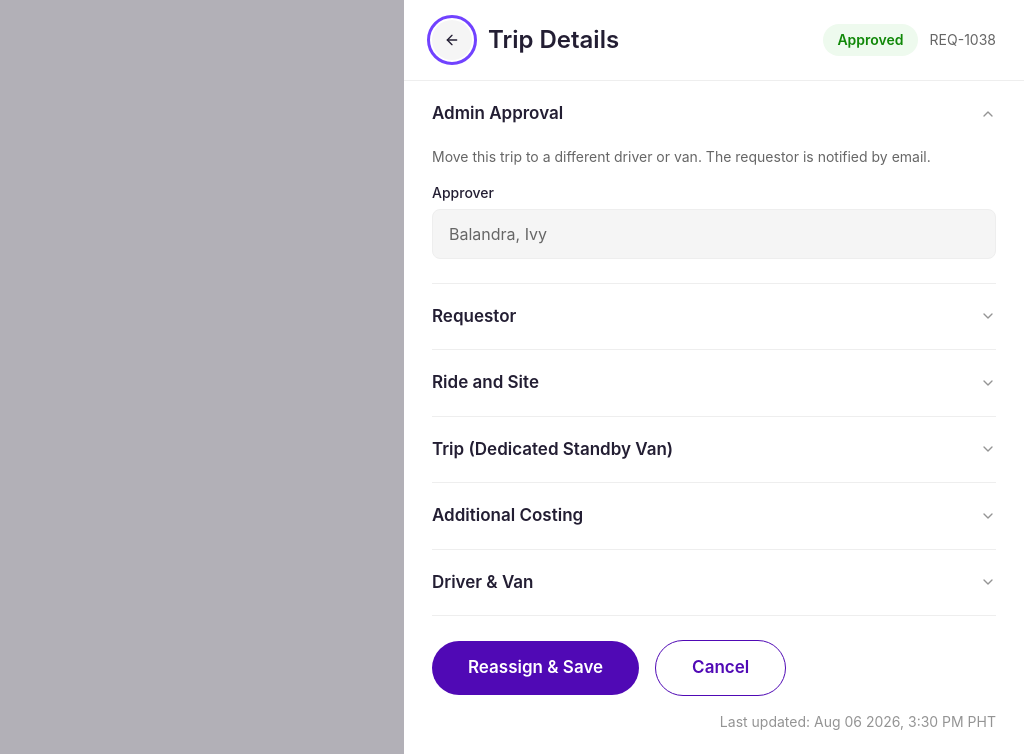
TripDrawer reassign mode › refuses a save that moved neither side
What coordinates should you click on to do the following:
click the button "Reassign & Save"
I would click on:
 (536, 668)
Its box is [432, 641, 639, 694].
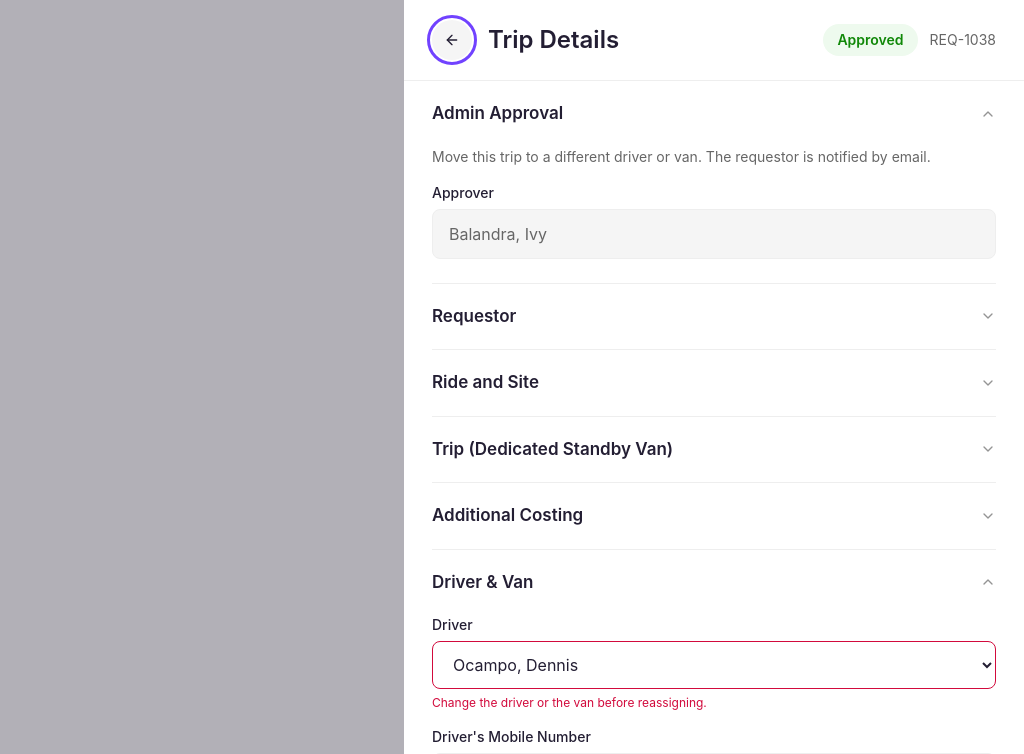
Check: the text "Change the driver or the van before reassigning." is shown, box [432, 695, 707, 710]
